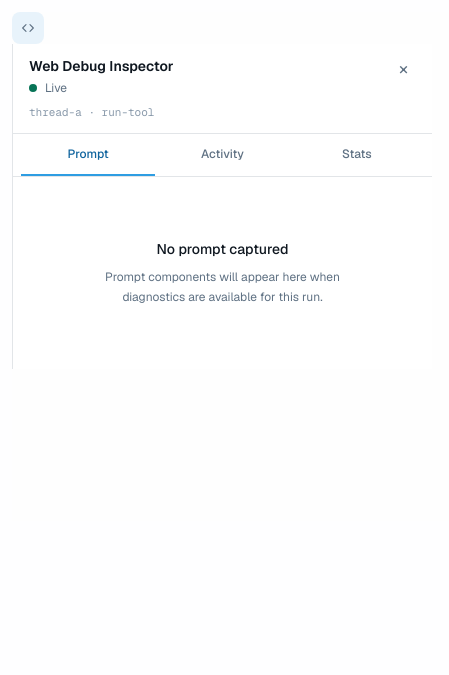
Test case: tool activity loads bounded verbose details from the dedicated endpoint
Click the tab with test id "inspector-tab-activity": (222, 154) [155, 134, 290, 176]
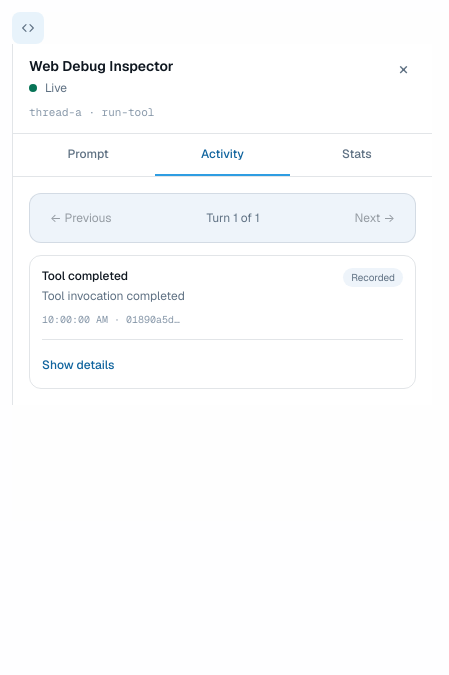
Click the button "Show details": (78, 364) [42, 356, 114, 372]
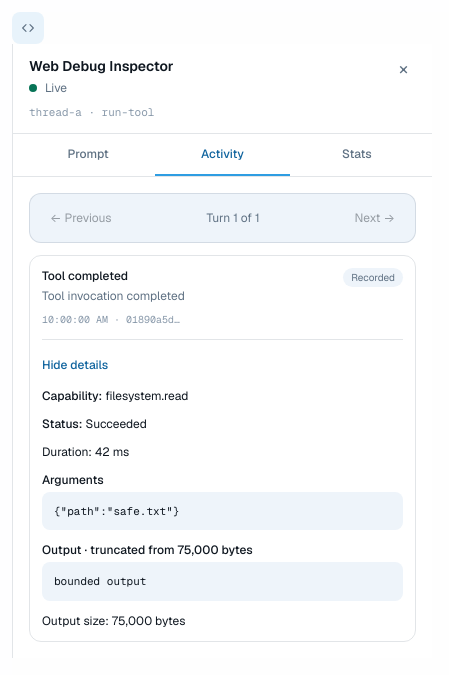
Check: the element with test id "inspector-tool-detail-" is shown, box [42, 388, 403, 629]
Check: the element with test id "inspector-tool-detail-" shows "filesystem.read", box [105, 388, 188, 404]
Check: the element with test id "inspector-tool-detail-" shows "safe.txt", box [54, 504, 179, 518]
